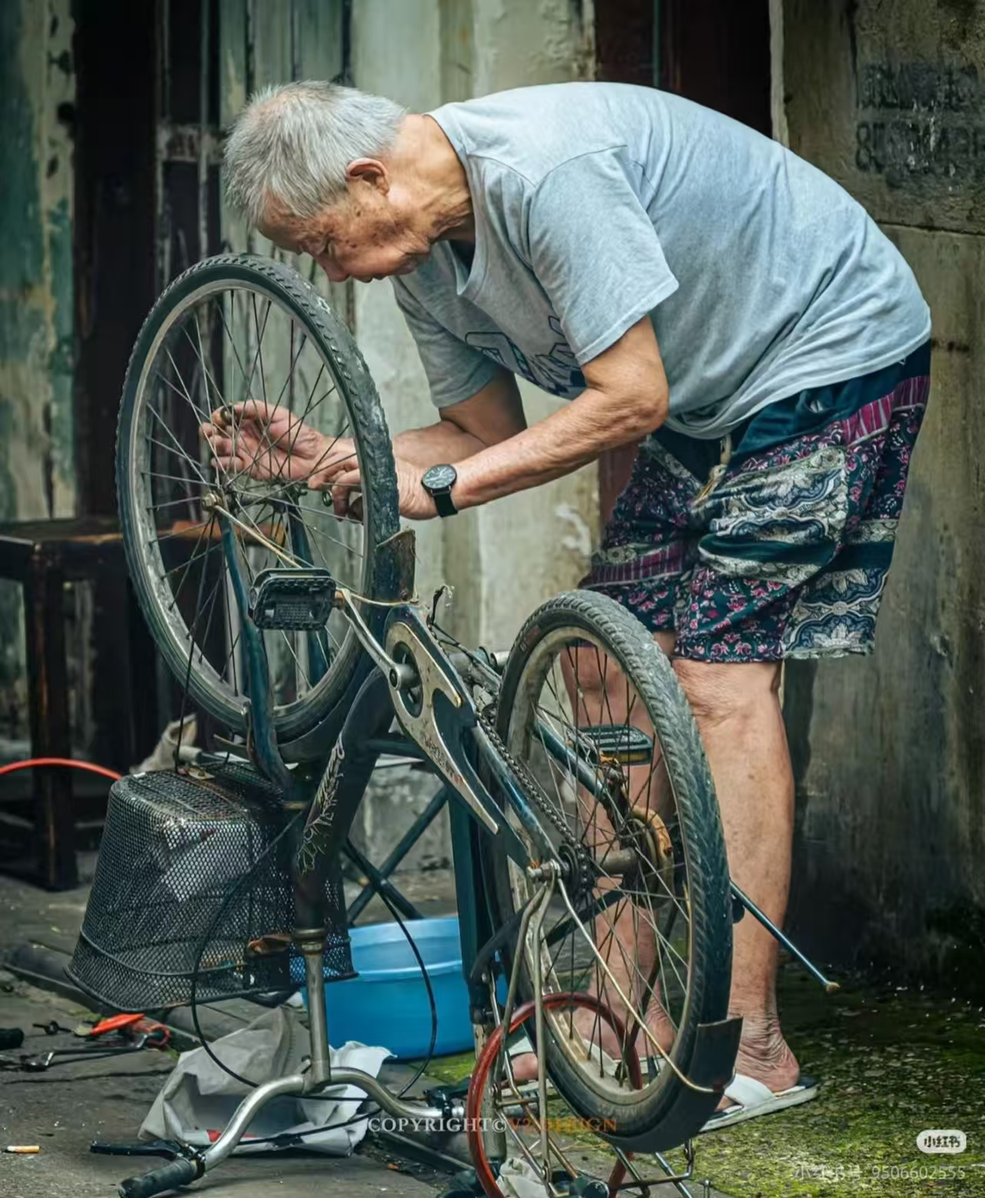bending: (201, 36, 953, 1136)
